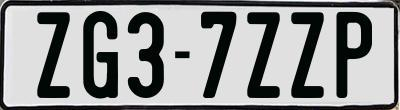3: (128, 10, 170, 99)
7: (200, 12, 241, 100)
G: (80, 9, 119, 97)
P: (335, 11, 374, 98)
Z: (288, 10, 326, 102), (36, 10, 75, 96), (245, 9, 281, 100)
